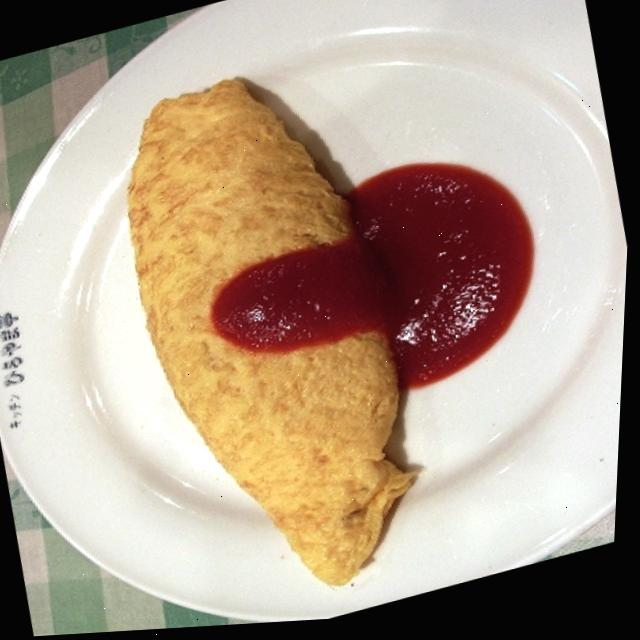鸡蛋料理: (70, 12, 575, 636)
